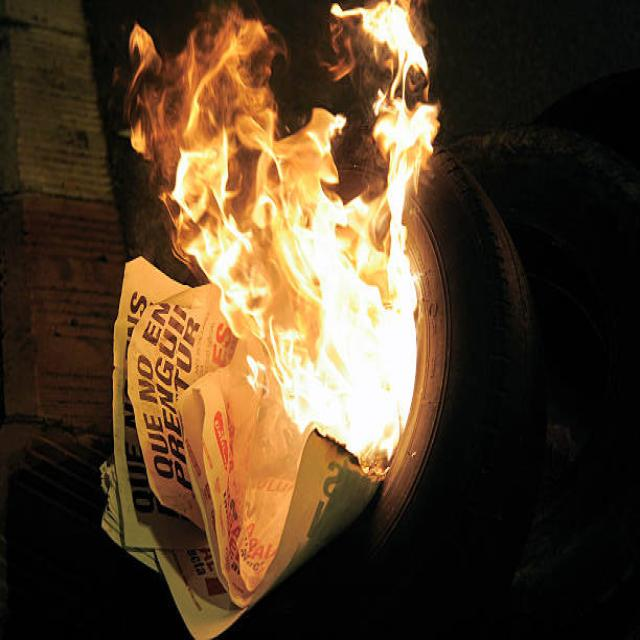fire: (219, 192, 417, 483), (110, 2, 289, 290), (234, 106, 349, 235), (315, 0, 430, 118), (370, 101, 443, 198)
